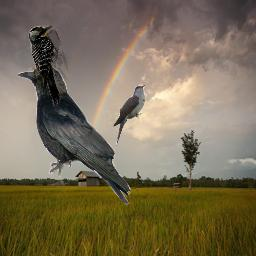Crow: (16, 63, 131, 205)
Cuckoo: (113, 85, 145, 147)
Woodpecker: (28, 25, 68, 107)
